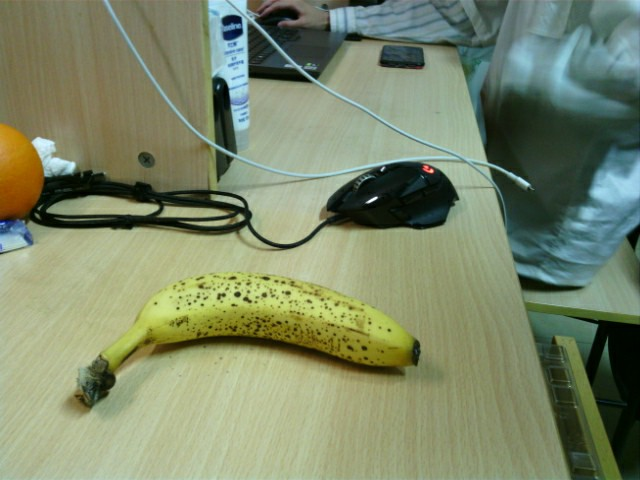normal_banana: (78, 272, 421, 414)
normal_orange: (1, 125, 47, 214)
